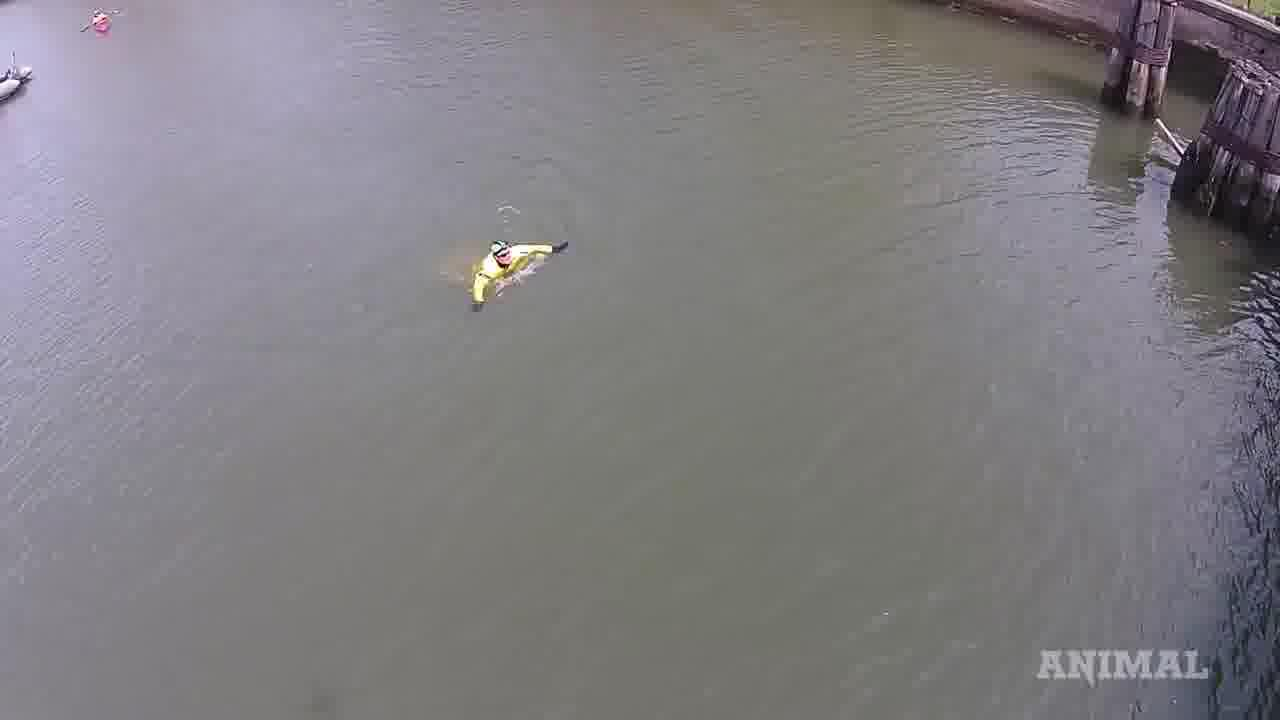human: (443, 221, 575, 319)
